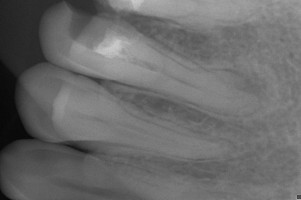Furcation Involvement: (241, 71, 268, 99)
